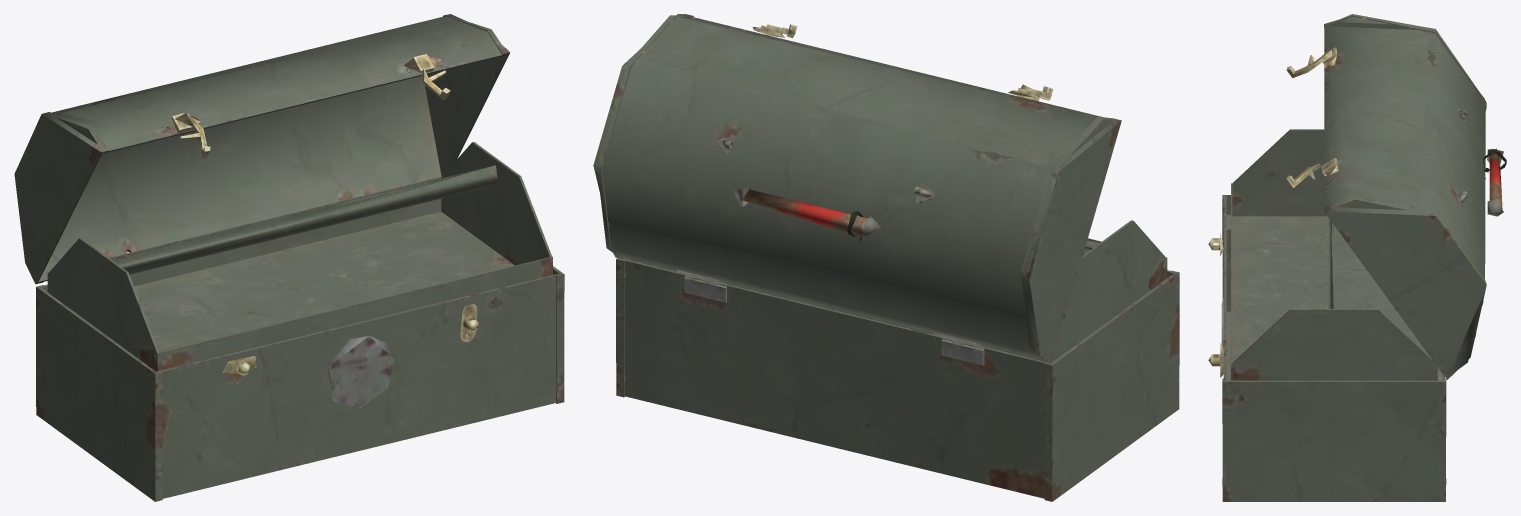
File: toolbox.glb
3 renders of one model, left to right at view 1: azimuth 30°, elevation 25°; view 2: azimuth 150°, elevation 25°; view 3: azimuth 270°, elevation 25°, orthographic. The views are drawn at different scales.
Parts seen in each view (by area): view 1: metal_toolbox; view 2: metal_toolbox; view 3: metal_toolbox.
Part boxes in pixels (box(x1,y1,x2,y2)): metal_toolbox: box(14, 14, 564, 501); metal_toolbox: box(593, 14, 1179, 501); metal_toolbox: box(1208, 14, 1506, 501).
Bounding box in the file's own units: 0.4 × 0.304 × 0.2694.
1 material, 1 textured.
